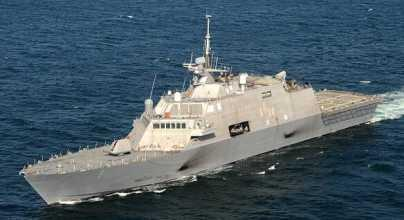warship: (19, 51, 378, 205)
